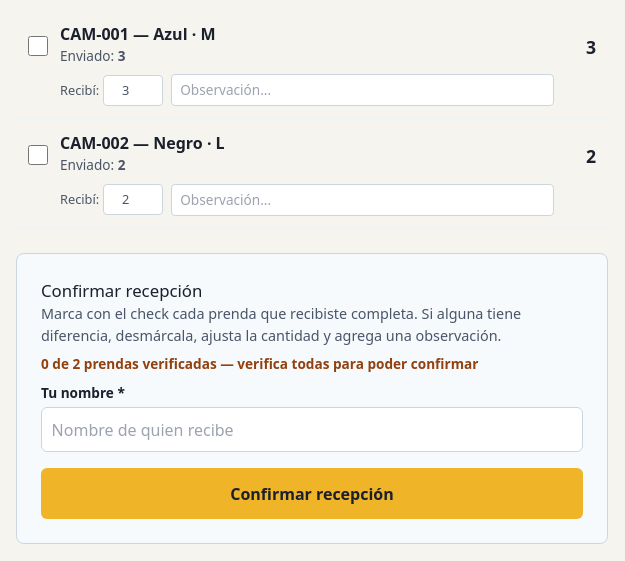
Test: DispatchConfirmPage › enables submit and posts confirmation when name is entered
(page scrolled)
Type "Ana Gómez" into the field with placeholder "Nombre de quien recibe" at (312, 430), box x1=41 y1=407 x2=583 y2=452
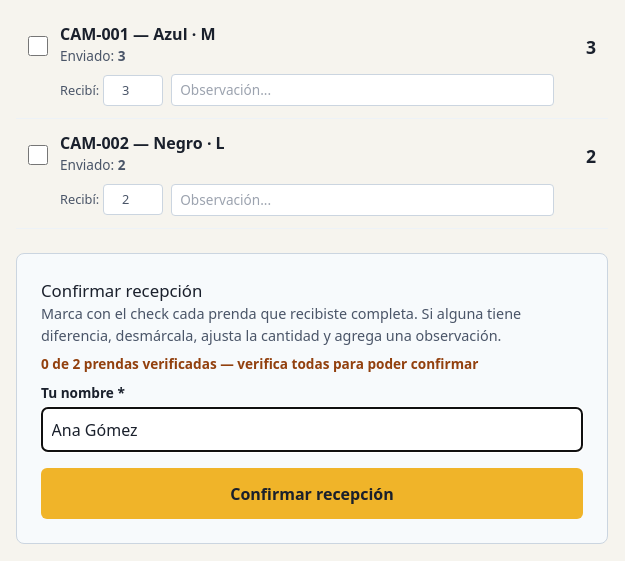
Click the checkbox next to "CAM-001" at (38, 46), box x1=28 y1=36 x2=48 y2=56
(page scrolled)
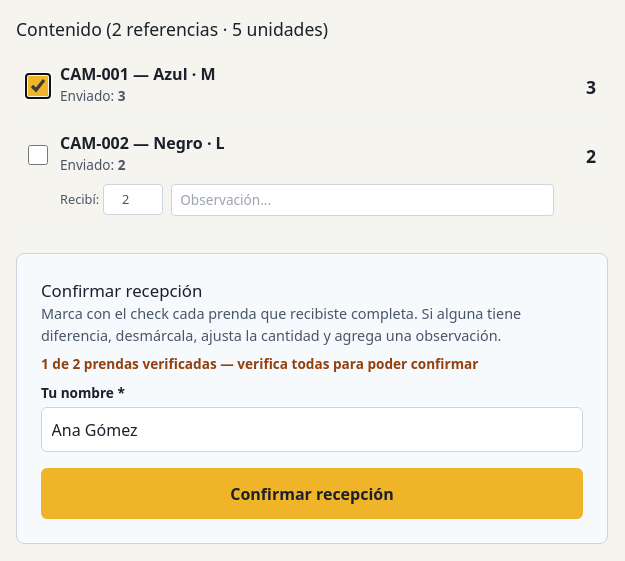
Click the checkbox next to "CAM-002" at (38, 155), box x1=28 y1=145 x2=48 y2=165
(page scrolled)
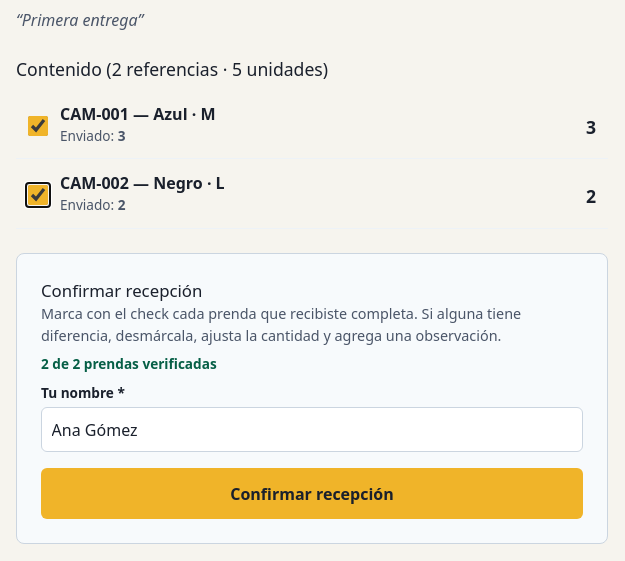
Click the button "Confirmar recepción" at (312, 494), box x1=41 y1=468 x2=583 y2=519
(page scrolled)
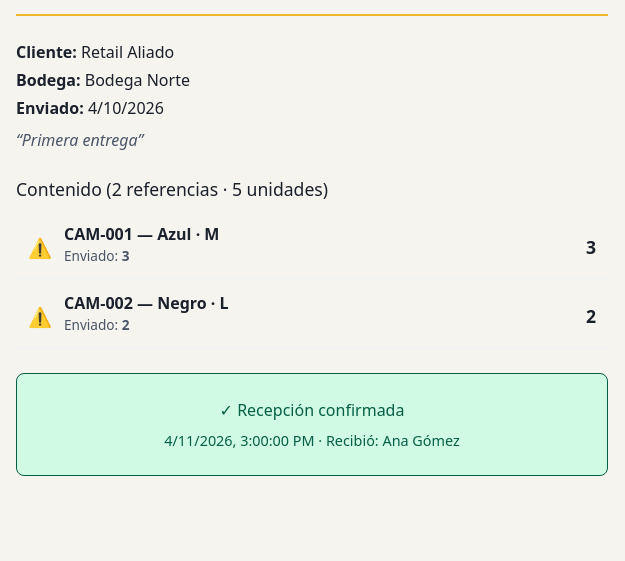
Check: the heading "✓ Recepción confirmada" is shown, box x1=220 y1=399 x2=404 y2=421
